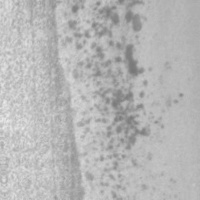pitted_surface: (68, 0, 167, 189), (0, 2, 86, 200)
